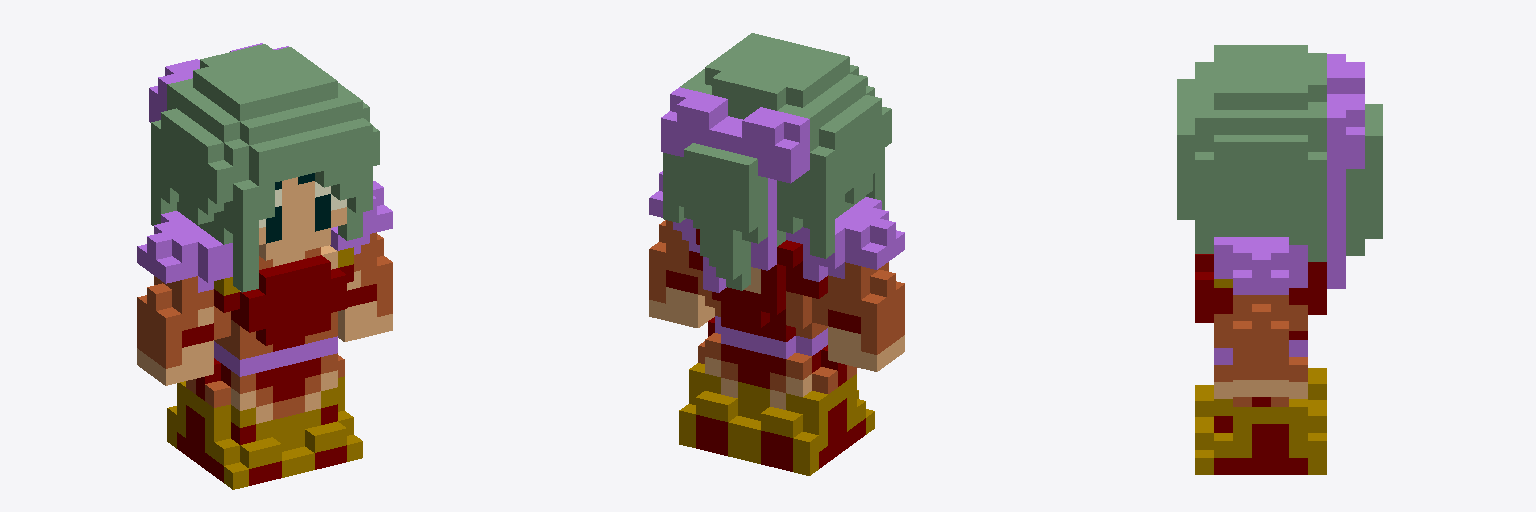
3 views of the same model, side by side, from view 1: azimuth 30°, elevation 25°; view 2: azimuth 150°, elevation 25°; view 3: azimuth 270°, elevation 25° (orthographic).
Visible parts, largest first — view 1: Cuboid; view 2: Cuboid; view 3: Cuboid.
Part boxes in pixels (left/top/right/bottom): Cuboid: left=137, top=43, right=392, bottom=489; Cuboid: left=649, top=33, right=904, bottom=475; Cuboid: left=1177, top=45, right=1382, bottom=474.
Size of the model in its own units: 14 by 22 by 11.
1 materials, 1 textured.